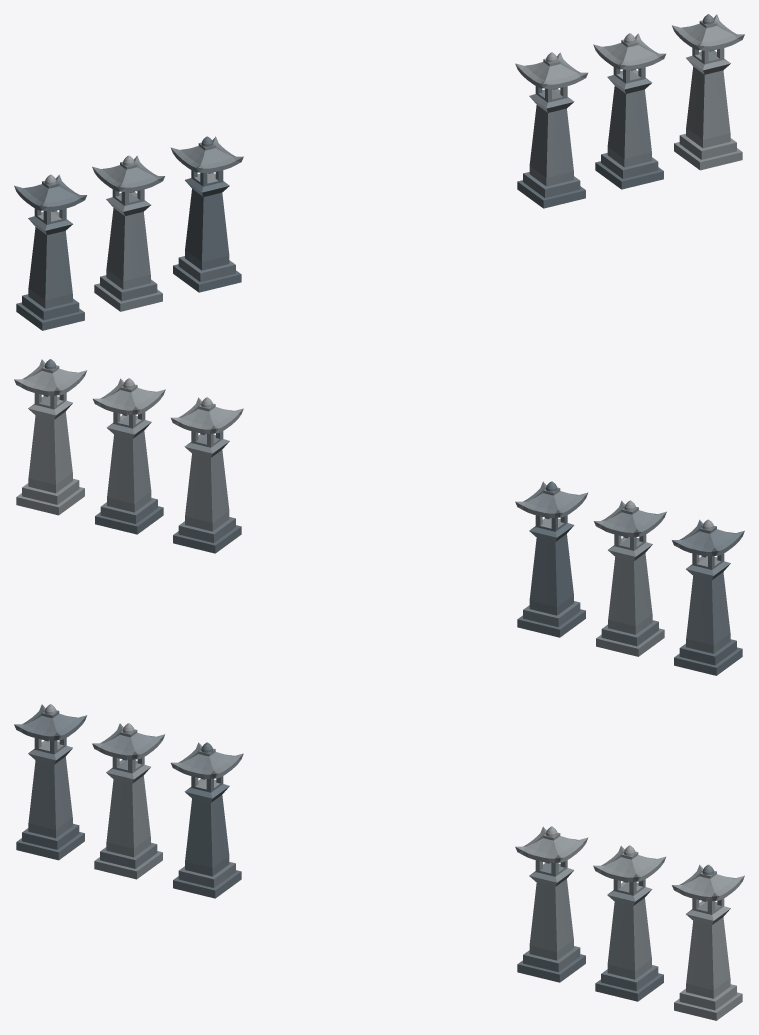
Rendered from tourou.obj.
The picture shows the model from 3 angles, top to bottom: view 1: azimuth 30°, elevation 25°; view 2: azimuth 150°, elevation 25°; view 3: azimuth 330°, elevation 25°; orthographic projection.
Parts seen in each view (by area): view 1: 円柱.004; view 2: 円柱.004; view 3: 円柱.004.
Boxes of the visible parts, x1,y1,x2,y2 form: 円柱.004: (14,14,744,330); 円柱.004: (14,359,744,675); 円柱.004: (14,704,744,1020).
Bounding box in the file's own units: 473 × 90.81 × 32.56.
Materials: 1 (1 with a texture image).
